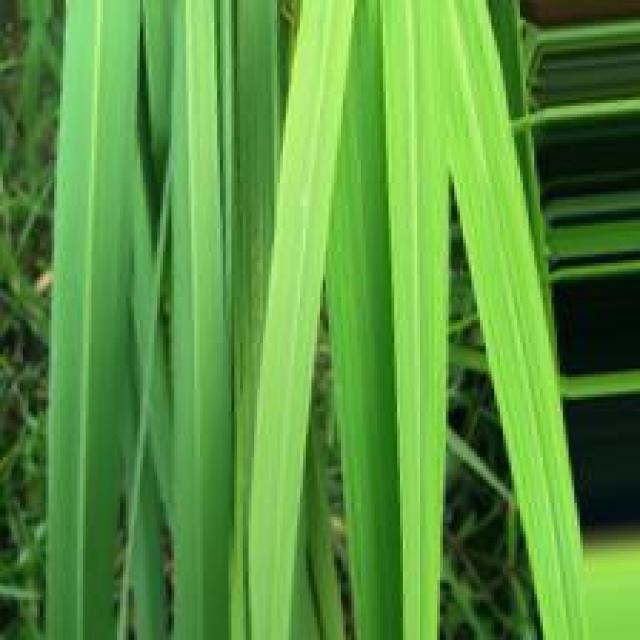HealthyLeaf: (377, 0, 589, 640), (45, 0, 141, 640)
